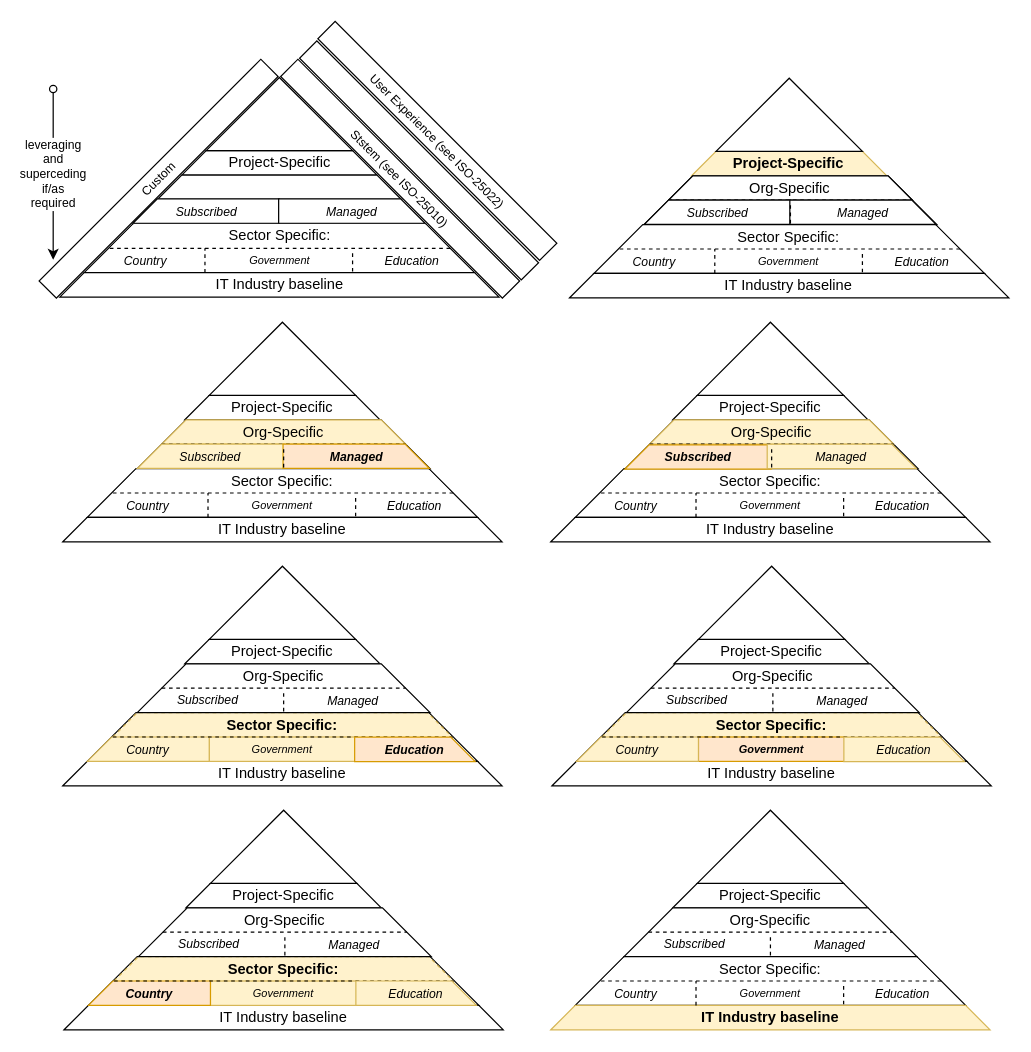
Image size: 1031x1052. Some labels were removed from this diagram. Here are the shapes that lost their labels. From the top down, the box of each, then its label:
(298, 40, 539, 280): Information (see ISO-25012)
(156, 174, 401, 199): Org Specifc
